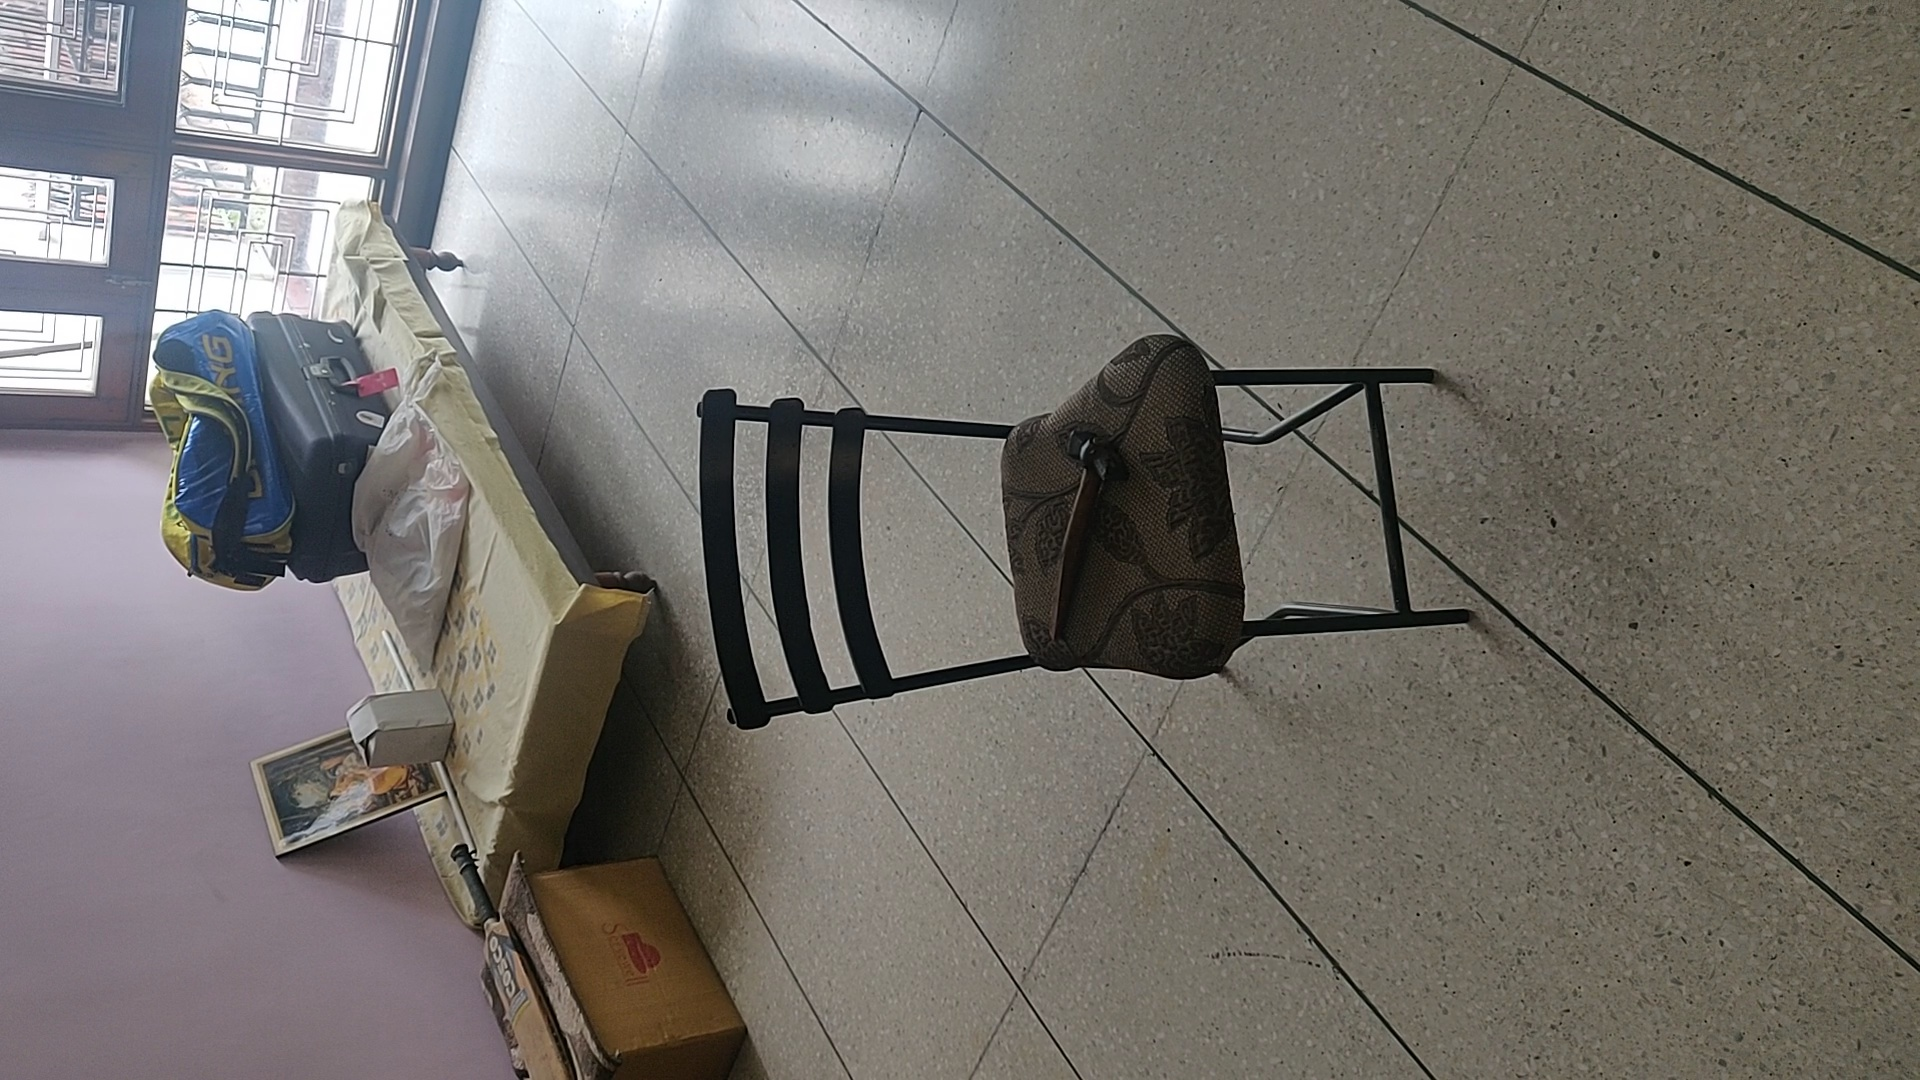hammer: (1047, 425, 1127, 646)
